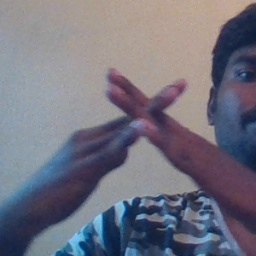W: (77, 57, 201, 186)
